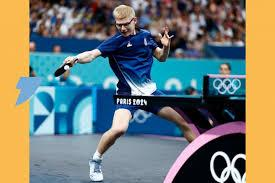ball_pingpong: (64, 64, 69, 70)
